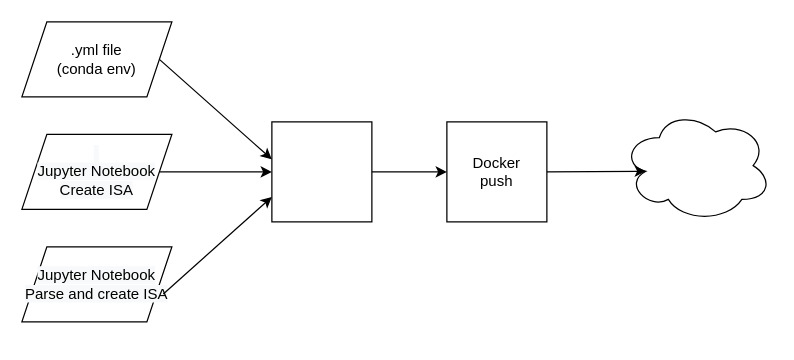
The diagram is 794 pixels wide and 360 high, and some of its shapes have lost their labels. The shapes that lost their labels are listed below. From the top down, each one's centre as x and y in pixels, then its label:
At (x=321, y=171): "Docker build".
At (x=696, y=165): "Gitlab.cmbi".
